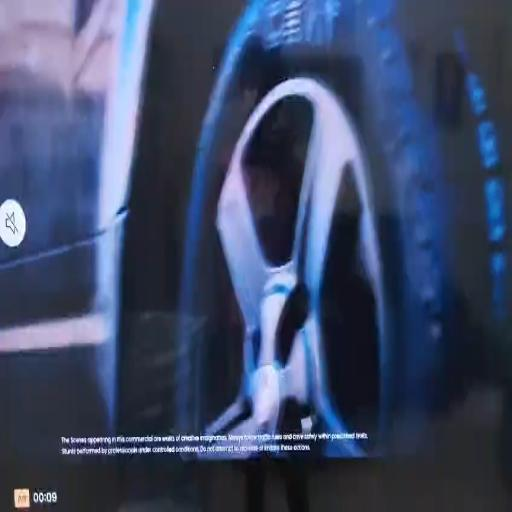ad label: (13, 483, 32, 511)
